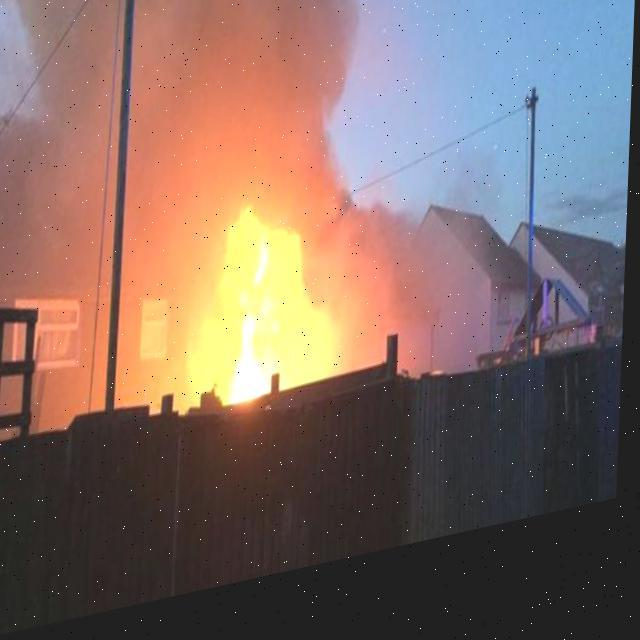Fire: (186, 204, 342, 423)
